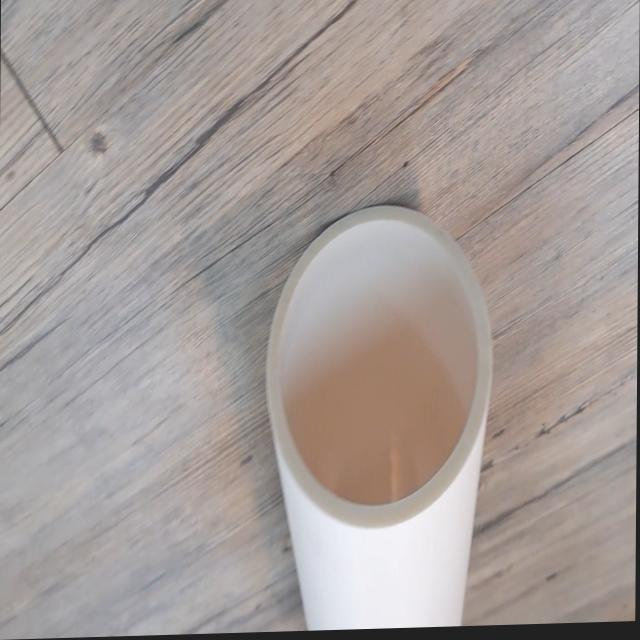CORAL: (255, 187, 505, 632)
